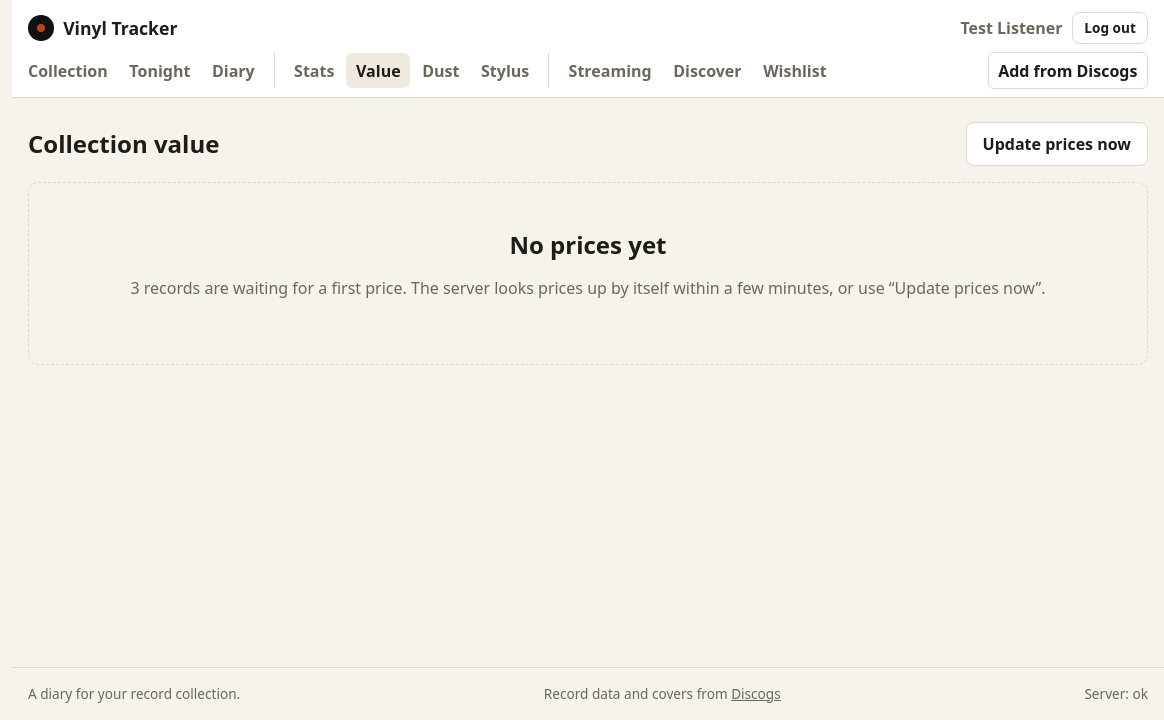
Test: ValuePage › updates prices on request and says what happened
The width and height of the screenshot is (1164, 720).
Expected: the heading "No prices yet" is shown, 510,228 -> 666,261
Expected: the text "3 records are waiting for a first price" is shown, 130,277 -> 1046,299
Step 1. Click the button "Update prices now" → click(1057, 144), box 966,122 -> 1148,166
(page scrolled)
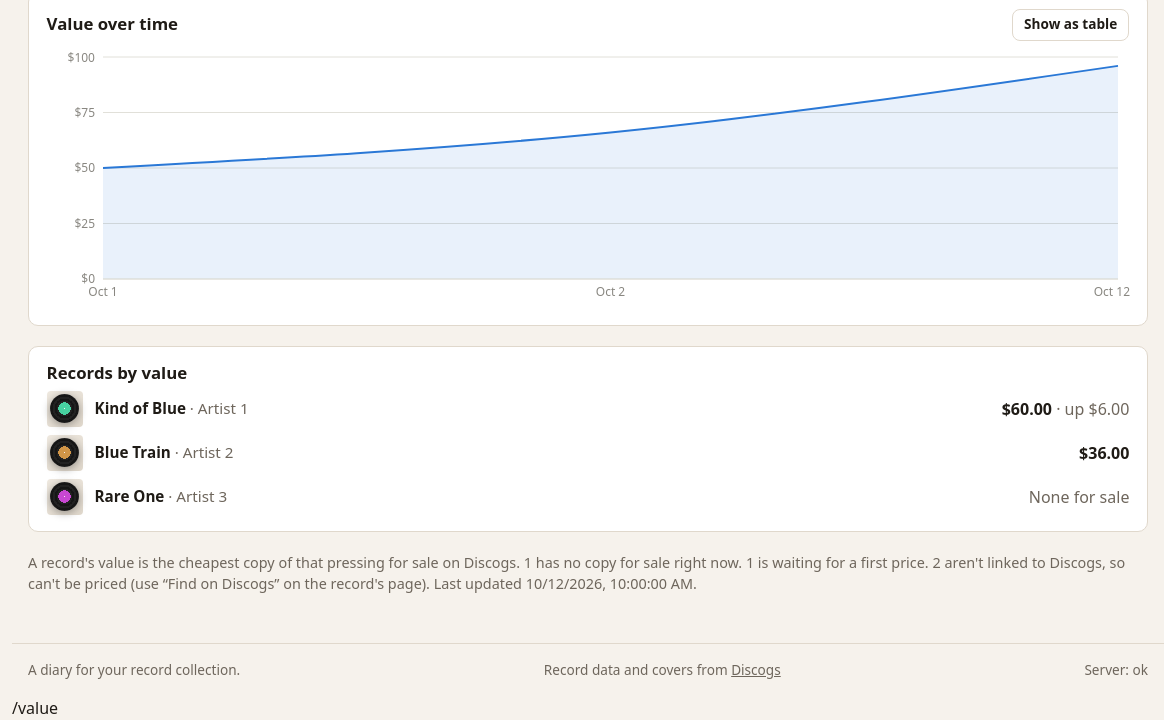
Expected: the element "Records by value" is shown, 28,346 -> 1148,532
